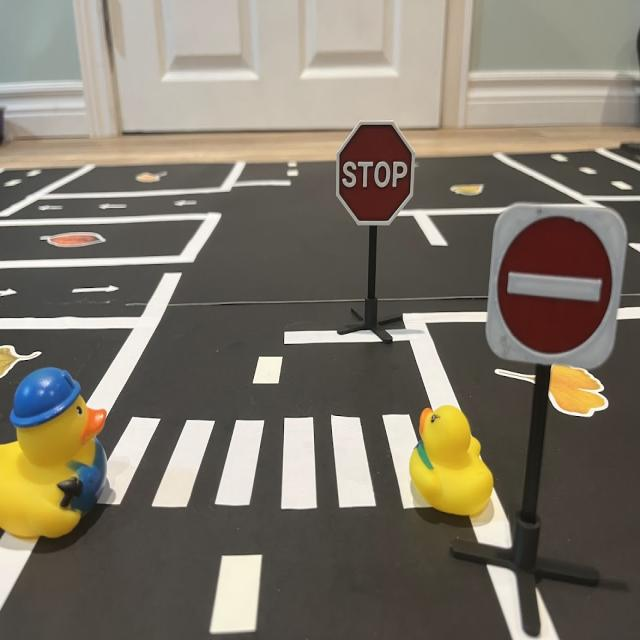duck_regular: (408, 406, 498, 519)
duck_specialty: (2, 366, 111, 546)
road_crosswalk: (92, 404, 447, 516)
road_oneway: (71, 282, 122, 301), (97, 200, 133, 214), (1, 284, 21, 304), (36, 204, 67, 216), (171, 200, 206, 208)
sign_noentry: (485, 204, 629, 371)
sign_stop: (337, 123, 413, 228)
